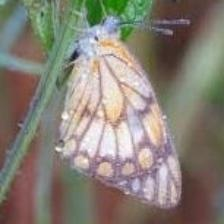butterfly: (56, 17, 183, 210)
